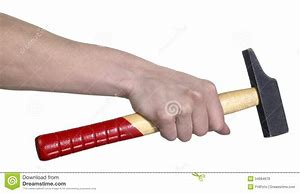hammer: (34, 47, 290, 163)
